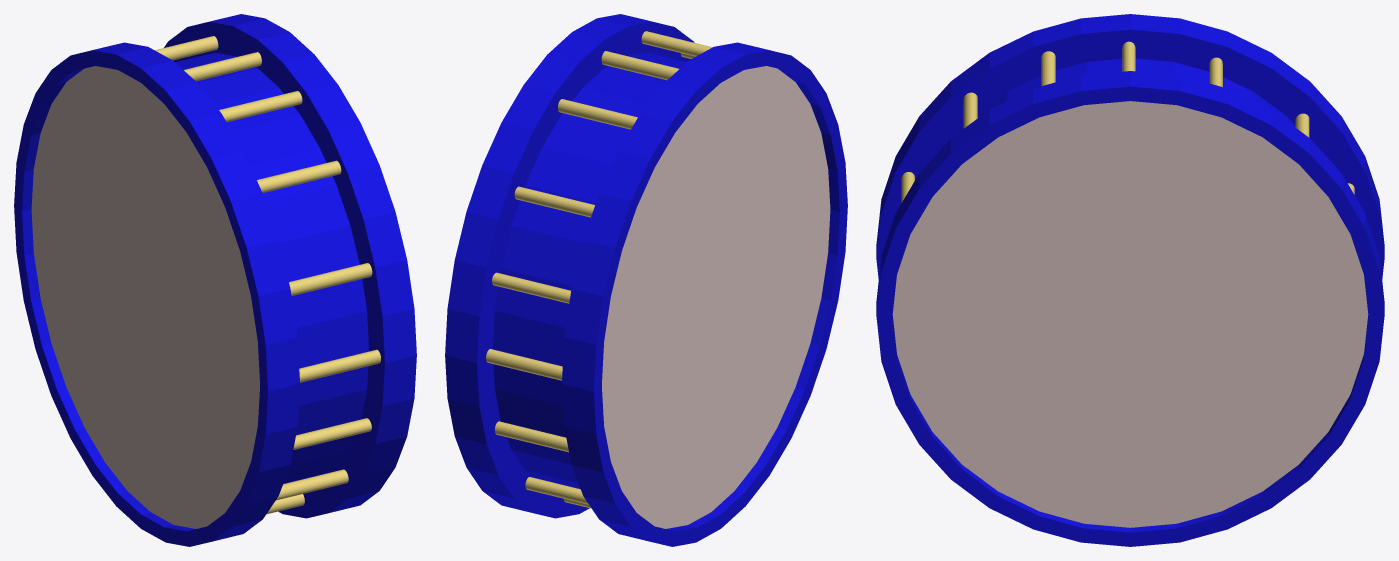
Rendered from bombo.dae.
3 renders of one model, left to right at view 1: azimuth 30°, elevation 25°; view 2: azimuth 150°, elevation 25°; view 3: azimuth 270°, elevation 25°, orthographic.
Visible parts, largest first — view 1: Cylinder; view 2: Cylinder; view 3: Cylinder.
Part boxes in pixels (<box>): Cylinder: <box>14,14,416,546</box>; Cylinder: <box>445,14,847,546</box>; Cylinder: <box>876,14,1384,546</box>.
Bounding box in the file's own units: 1 × 2.97 × 2.97.
